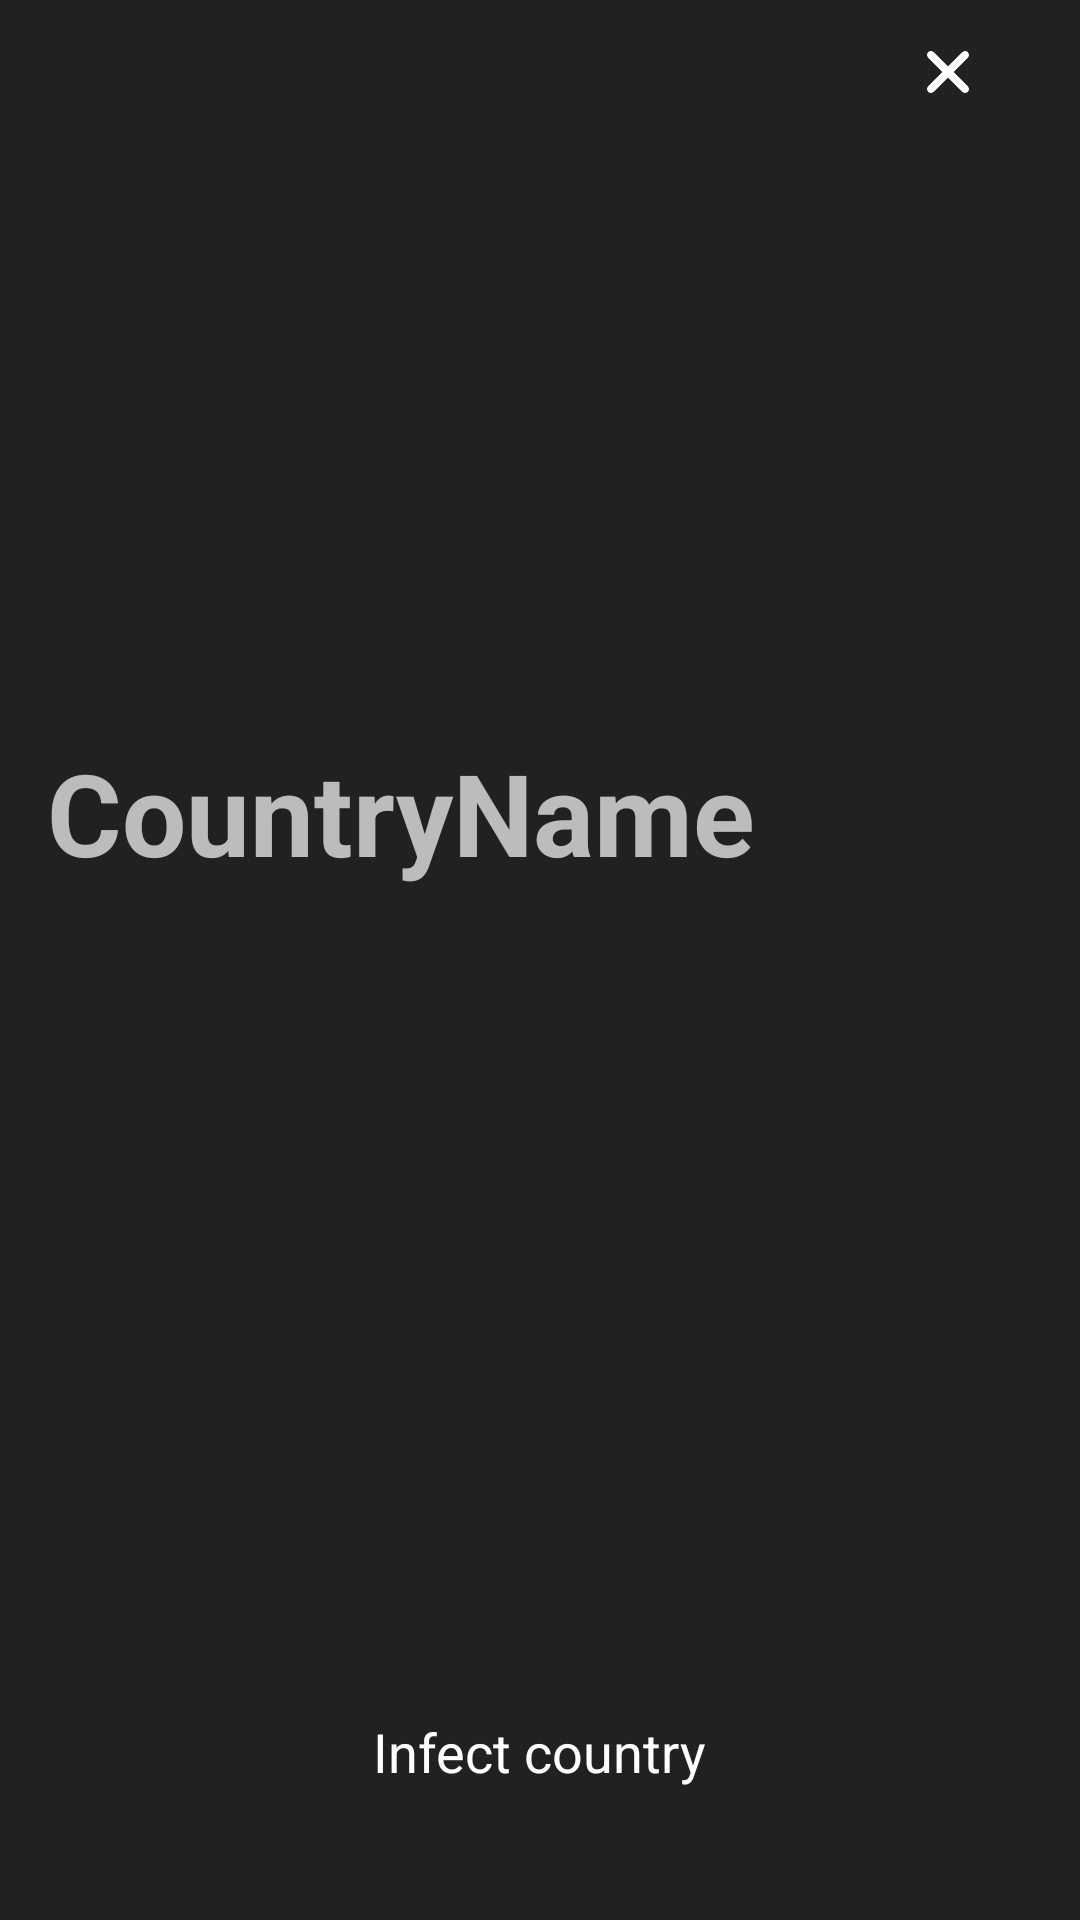

Named icons in this screenshot (1080*1920) and their bounding boxes, bbox=(x1, y1, x2, y2):
close: bbox=(927, 51, 969, 93)
